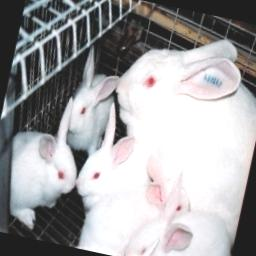rabbit: (115, 39, 256, 241), (78, 156, 175, 256), (9, 97, 75, 228), (126, 174, 231, 256), (76, 103, 149, 212), (66, 46, 118, 154)
